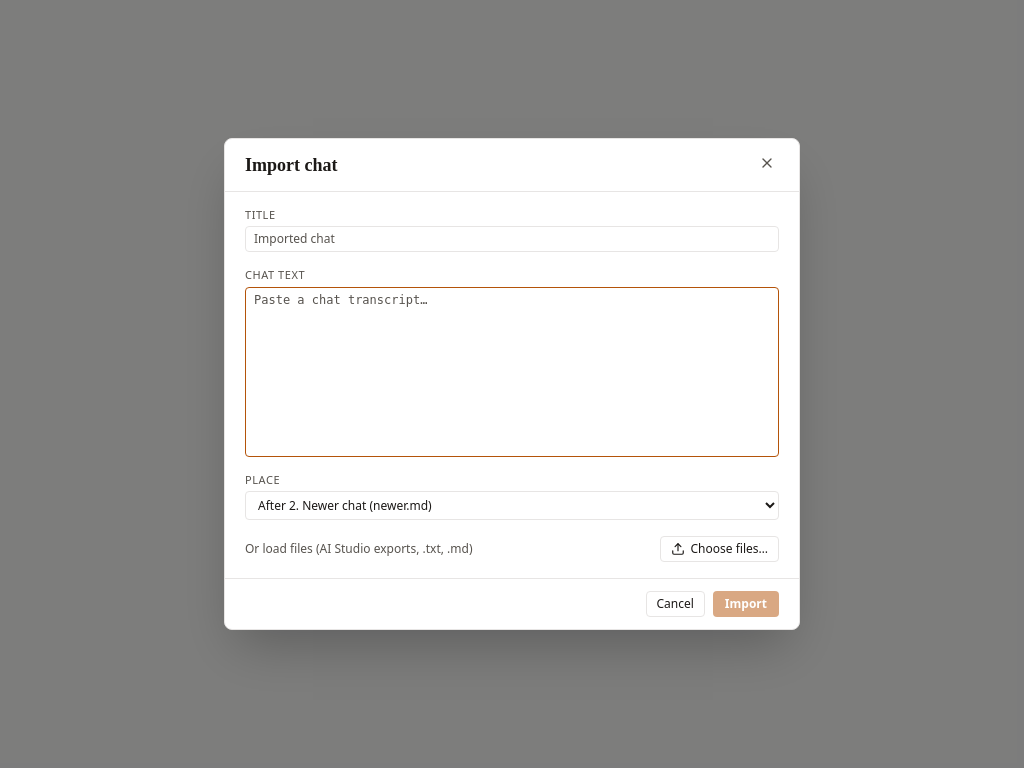
Test: ImportChatModal › stays on paste when every picked file was skipped
Click the button "Choose files…" at (719, 550), box [660,536,779,562]
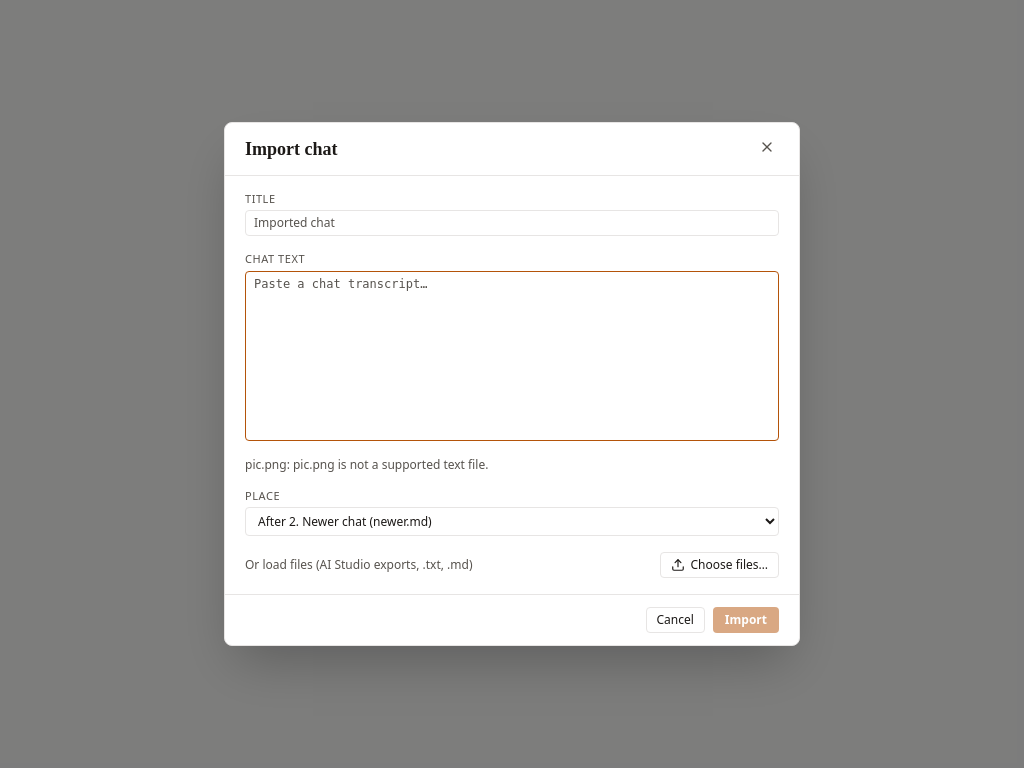
Expected: the text box labelled "Chat text" is shown, [245,271,779,441]
Now the list item "pic.png: pic.png is not a supported text file." is shown, box [245,456,488,473]
